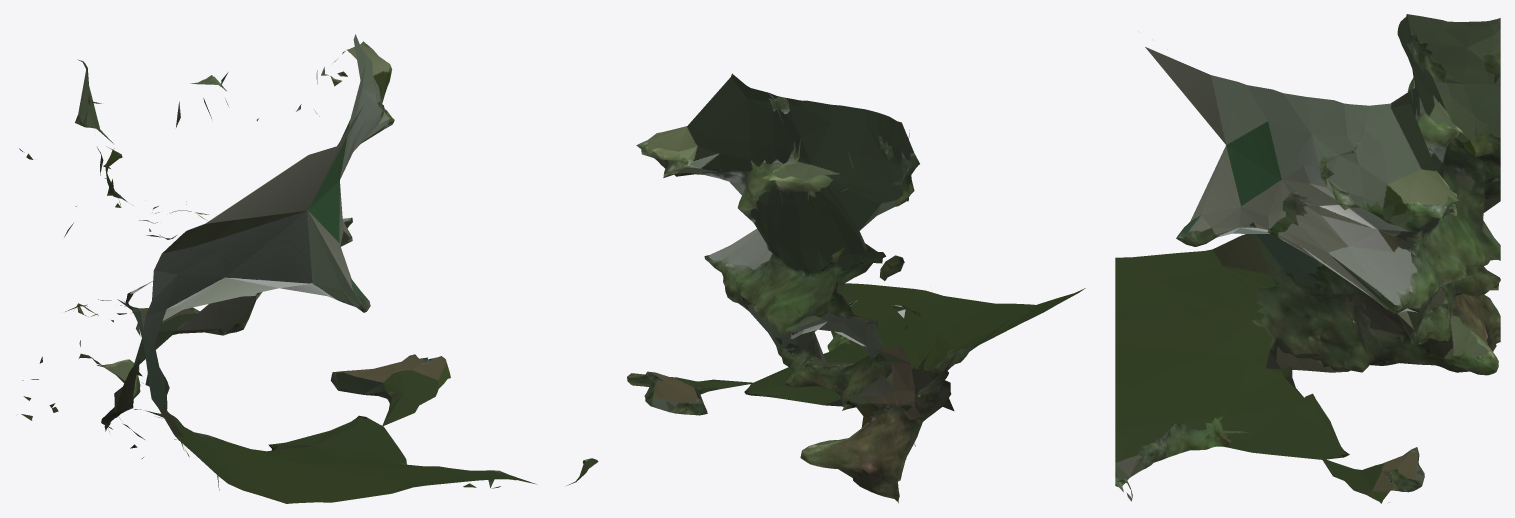
The picture shows the model from 3 angles, left to right: view 1: azimuth 30°, elevation 25°; view 2: azimuth 150°, elevation 25°; view 3: azimuth 270°, elevation 25°; orthographic projection. The views are drawn at different scales.
Size of the model in its own units: 3.93 by 3.93 by 3.93.
1 material, 1 textured.
